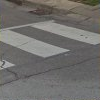crosswalk: (0, 19, 99, 69)
